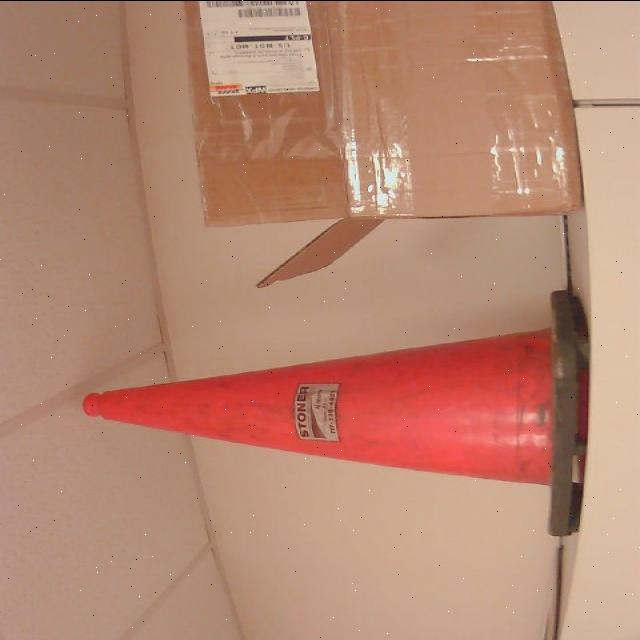traffic cone: (84, 290, 594, 538)
